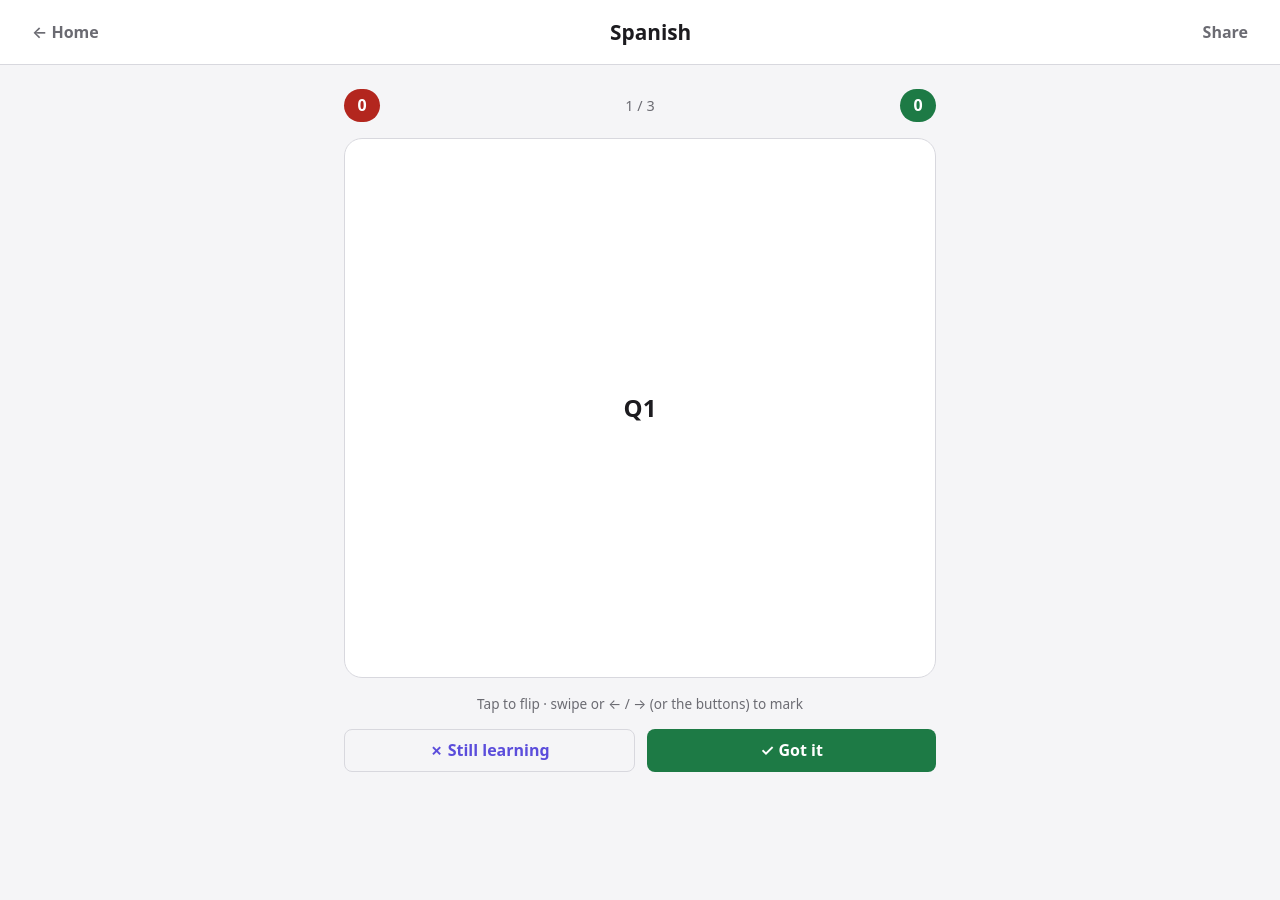
Scenario: PracticePage › marking correct advances and persists progress
Expected: the text "Q1" is shown, [624,391,656,424]
Click the button "✓ Got it". click: x=792, y=750
box: [647,729,936,772]
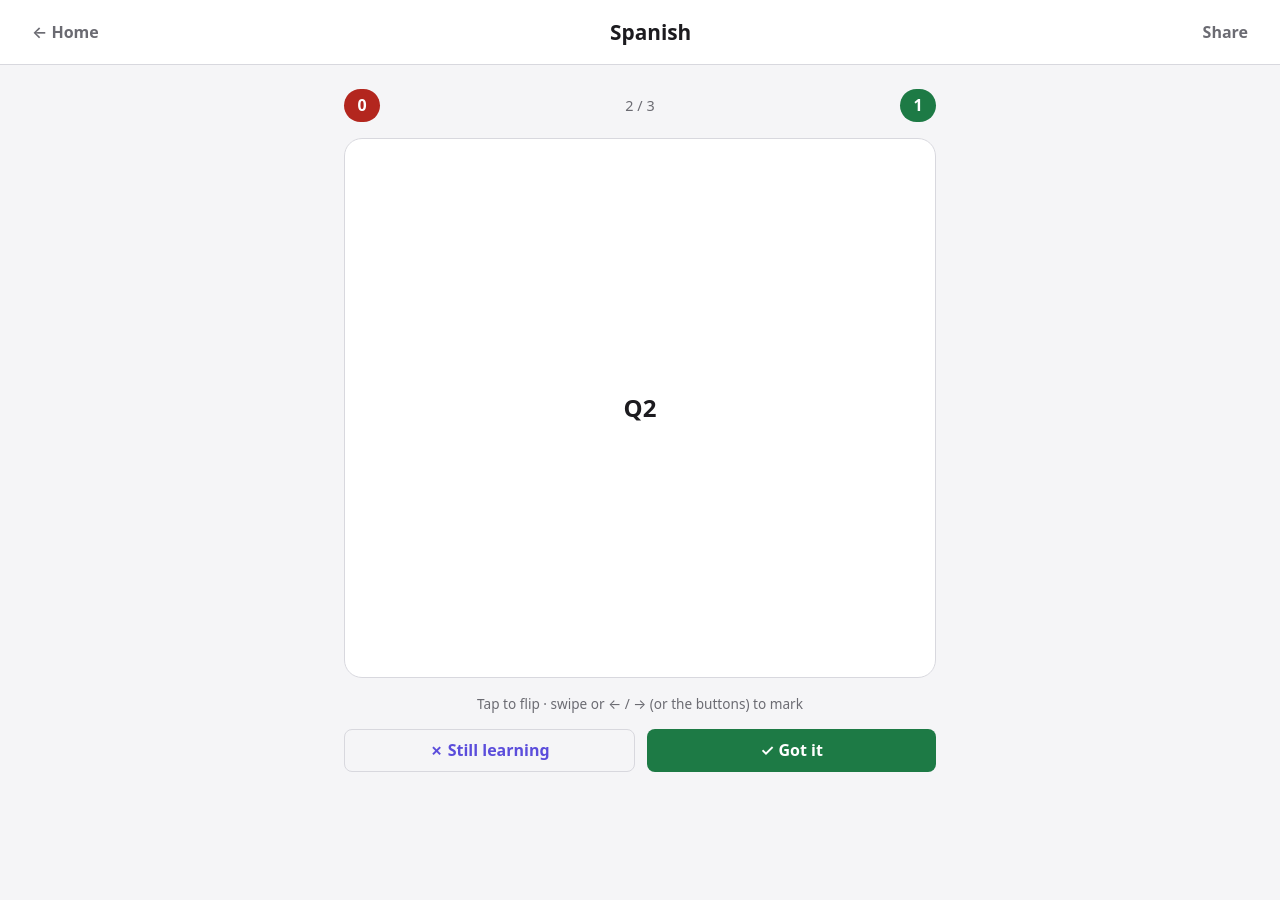
Now the text "Q2" is shown, box [624,391,656,424]
